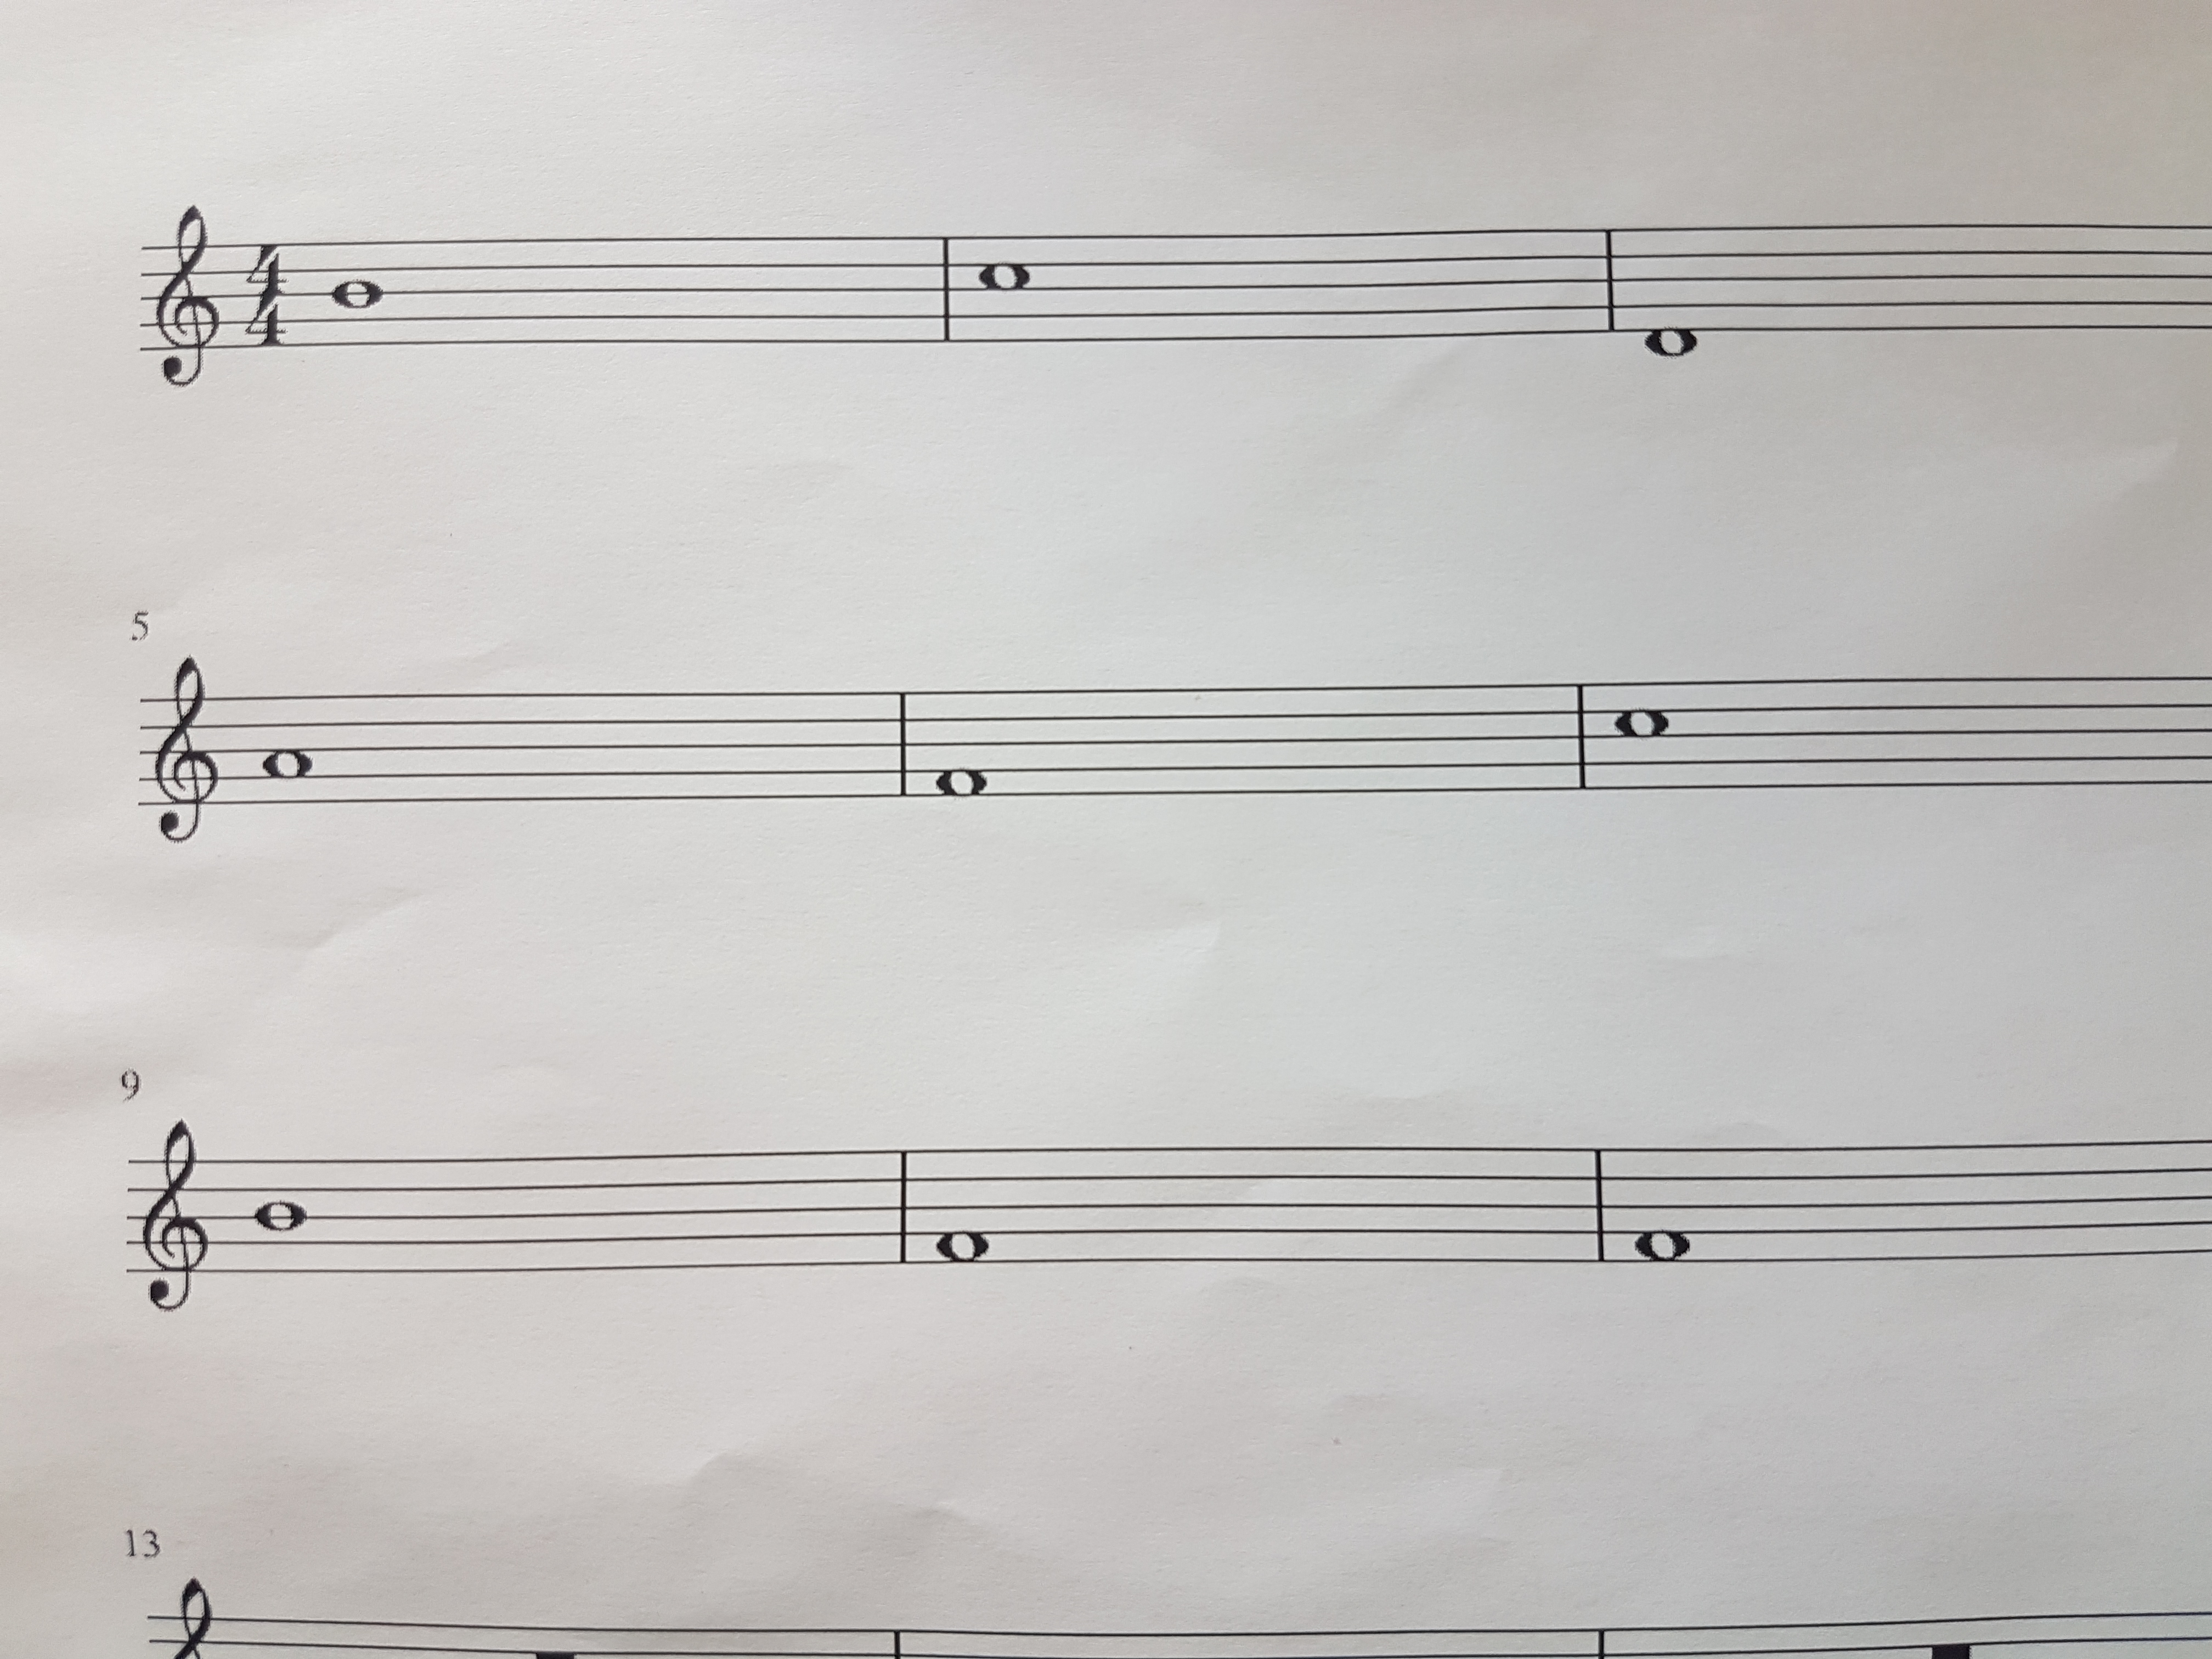key: (136, 1110, 214, 1323), (148, 195, 221, 408), (148, 652, 218, 863)
pipe: (1587, 1134, 1616, 1277), (885, 680, 916, 810), (1595, 216, 1627, 343), (1568, 666, 1597, 798), (932, 223, 960, 356), (892, 1136, 916, 1283)
semibreve_a: (254, 674, 324, 838)
semibreve_c: (1608, 653, 1677, 819), (970, 204, 1038, 368)
semibreve_d: (1637, 202, 1709, 380)
semibreve_f: (1627, 1117, 1700, 1293), (927, 662, 998, 835), (930, 1121, 995, 1297)
semibreve_h: (246, 1127, 314, 1300), (324, 209, 388, 376)
